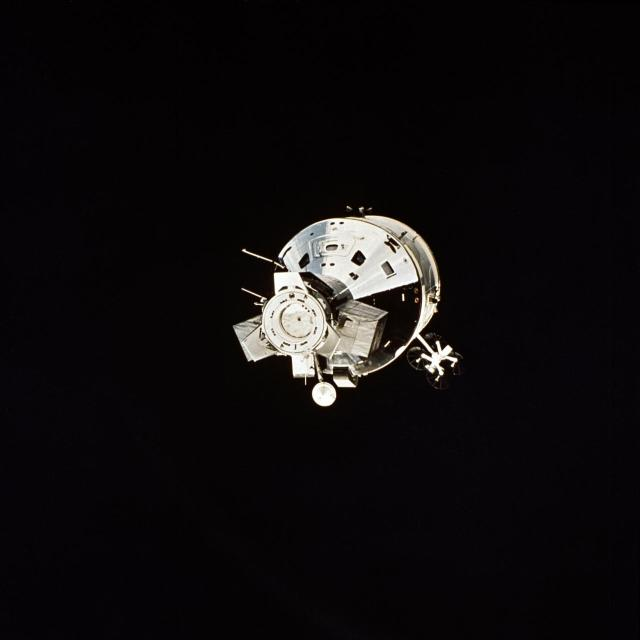medium_debris: (234, 208, 462, 407)
